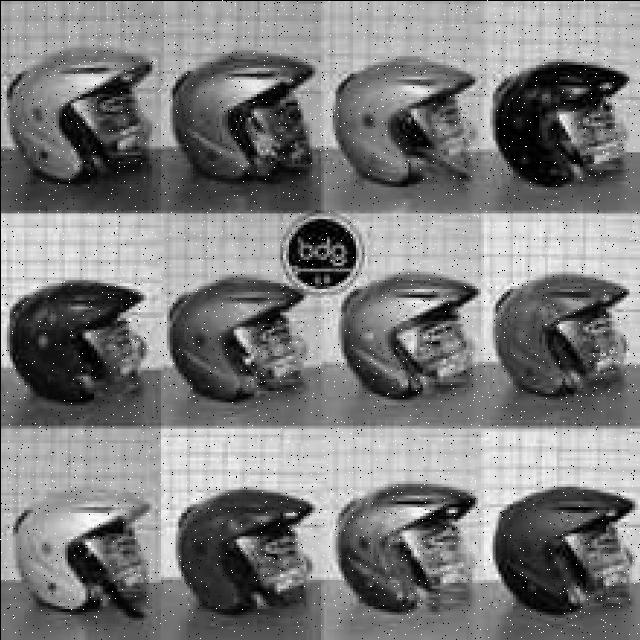Helmet: (0, 46, 626, 184), (6, 480, 640, 612), (3, 274, 630, 398)
